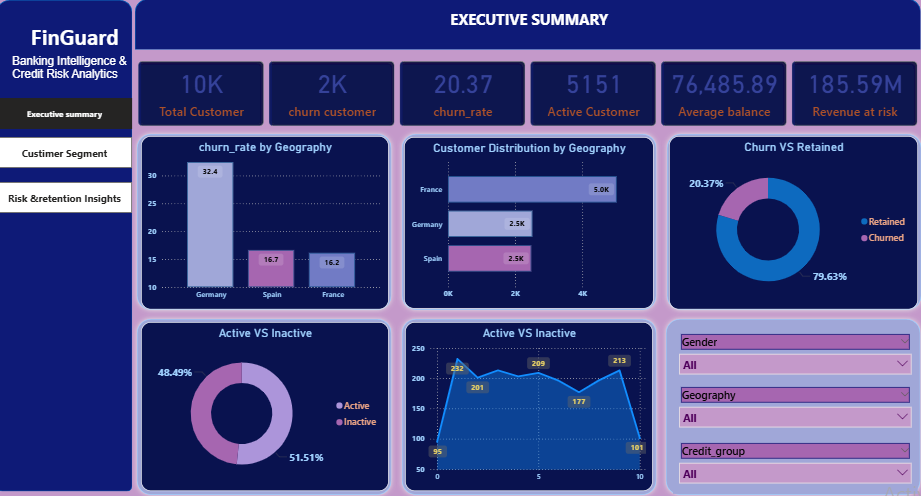

What the dashboard file says about the page in this screenshot:
{"tool":"powerbi","page":{"name":"Executive summary","canvas":[1500,820],"ordinal":0},"visuals":[{"type":"shape","box":[223.3,11.7,1268.3,81.7],"z":0},{"type":"textbox","box":[690.4,23,336.2,60.7],"z":1000},{"type":"cardVisual","fields":{"Data":["Bank churn clean.Total Customer","Bank churn clean.churn customer","Bank churn clean.churn_rate","Bank churn clean.Active Customer","Bank churn clean.Average balance","Bank churn clean.Revenue at risk"]},"box":[223.3,106.7,1268.3,115],"z":2000},{"type":"shape","box":[218.3,221.7,426.7,300],"z":3000},{"type":"columnChart","fields":{"Category":["Bank churn clean.Geography"],"Y":["Bank churn clean.churn_rate"]},"box":[231.7,231.7,400,280],"z":4000},{"type":"shape","box":[1073.3,221.7,426.7,300],"z":5000},{"type":"shape","box":[645,221.7,426.7,300],"z":6000},{"type":"barChart","title":"Customer Distribution by Geography","fields":{"Category":["Bank churn clean.Geography"],"Y":["Count(Bank churn clean.Customerid)"]},"box":[656.7,233.3,403.3,276.7],"z":7000},{"type":"donutChart","title":" Churn VS Retained","fields":{"Category":["Bank churn clean.Churn Status"],"Y":["Count(Bank churn clean.Customerid)"]},"box":[1085,231.7,401.7,280],"z":8000},{"type":"shape","box":[218.3,520,426.7,300],"z":9000},{"type":"shape","box":[1071.7,520,426.7,300],"z":10000},{"type":"donutChart","title":" Active VS Inactive","fields":{"Y":["Count(Bank churn clean.Customerid)"],"Category":["Bank churn clean.Active Status"]},"box":[231.7,533.3,400,273.3],"z":11000},{"type":"shape","box":[645,520,426.7,300],"z":12000},{"type":"areaChart","title":" Active VS Inactive","fields":{"Category":["Bank churn clean.Tenure"],"Y":["Bank churn clean.churn customer"]},"box":[658.3,533.3,400,273.3],"z":13000},{"type":"slicer","fields":{"Values":["Bank churn clean.Geography"]},"box":[1091.7,633.3,395,86.7],"z":14000},{"type":"shape","box":[0,13.3,218.3,793.3],"z":15000},{"type":"slicer","fields":{"Values":["Bank churn clean.Gender"]},"box":[1091.7,546.7,395,80],"z":16000},{"type":"slicer","fields":{"Values":["Bank churn clean.Credit_group"]},"box":[1091.7,723.3,395,86.7],"z":17000},{"type":"textbox","box":[50,45,168.3,61.7],"z":18000},{"type":"textbox","box":[20,95,270,70],"z":19000},{"type":"pageNavigator","box":[0,171.7,218.3,50],"z":19001},{"type":"pageNavigator","box":[0,233.3,218.3,50],"z":19003},{"type":"pageNavigator","box":[0,306.7,218.3,50],"z":19004}]}

Visuals, with their boxes in screenshot pixels (x1, y1, x2, y2):
shape: 133:0:919:46
textbox: 423:2:631:40
cardVisual - Bank churn clean.Total Customer x Bank churn clean.churn customer: 133:54:919:125
shape: 130:125:394:311
columnChart - Bank churn clean.Geography x Bank churn clean.churn_rate: 139:131:386:305
shape: 660:125:920:311
shape: 394:125:659:311
"Customer Distribution by Geography" barChart: 402:132:651:304
" Churn VS Retained" donutChart: 667:131:916:305
shape: 130:310:394:495
shape: 659:310:920:495
" Active VS Inactive" donutChart: 139:318:386:487
shape: 394:310:659:495
" Active VS Inactive" areaChart: 403:318:650:487
slicer - Bank churn clean.Geography: 671:380:916:434
shape: 0:0:130:487
slicer - Bank churn clean.Gender: 671:326:916:376
slicer - Bank churn clean.Credit_group: 671:436:916:489
textbox: 26:16:130:54
textbox: 8:47:175:90
pageNavigator: 0:94:130:125
pageNavigator: 0:132:130:163
pageNavigator: 0:178:130:209
